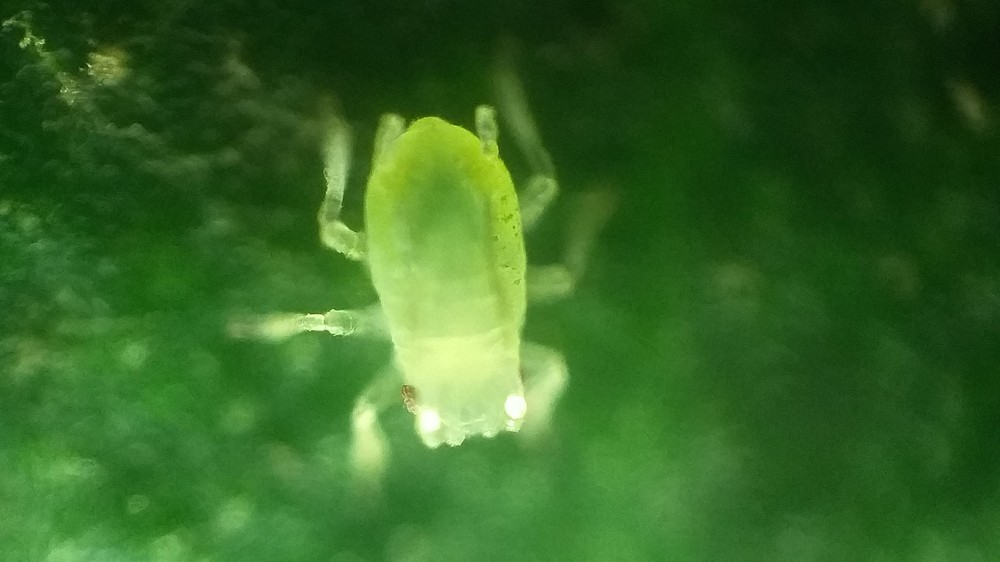Pulgon: (217, 66, 644, 523)
